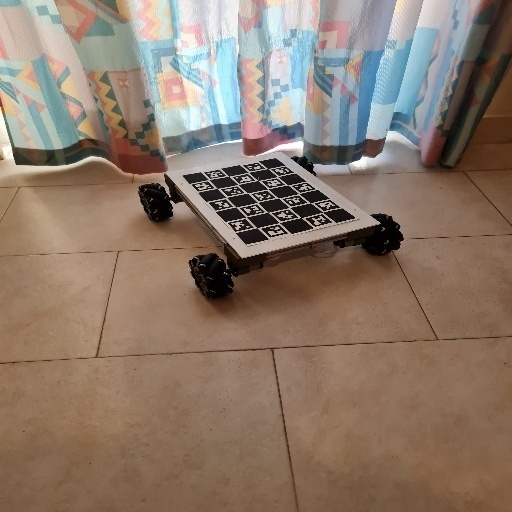Omniwheel: (138, 151, 407, 301)
